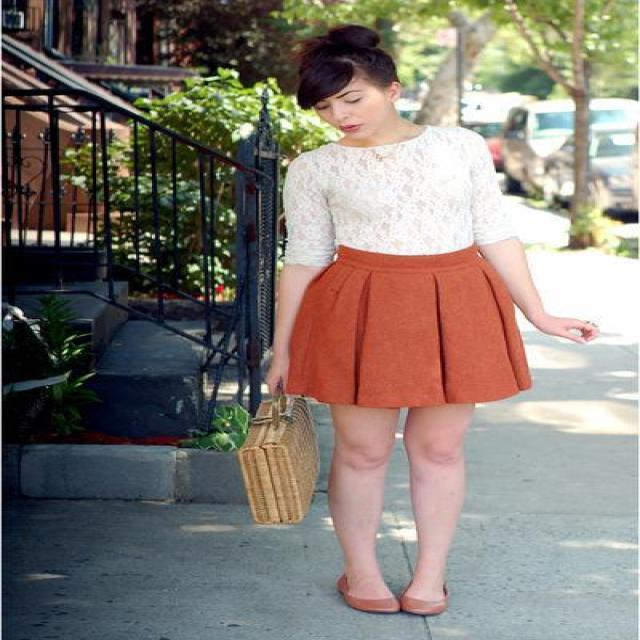bag: (219, 397, 314, 520)
shirt: (282, 115, 518, 266)
shoe: (349, 572, 443, 611)
skirt: (275, 243, 530, 413)
